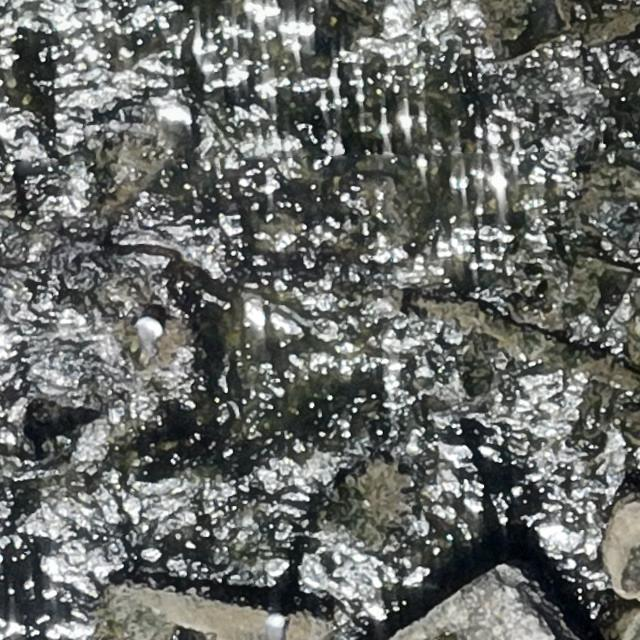umineko: (137, 316, 159, 352), (266, 615, 284, 640)
